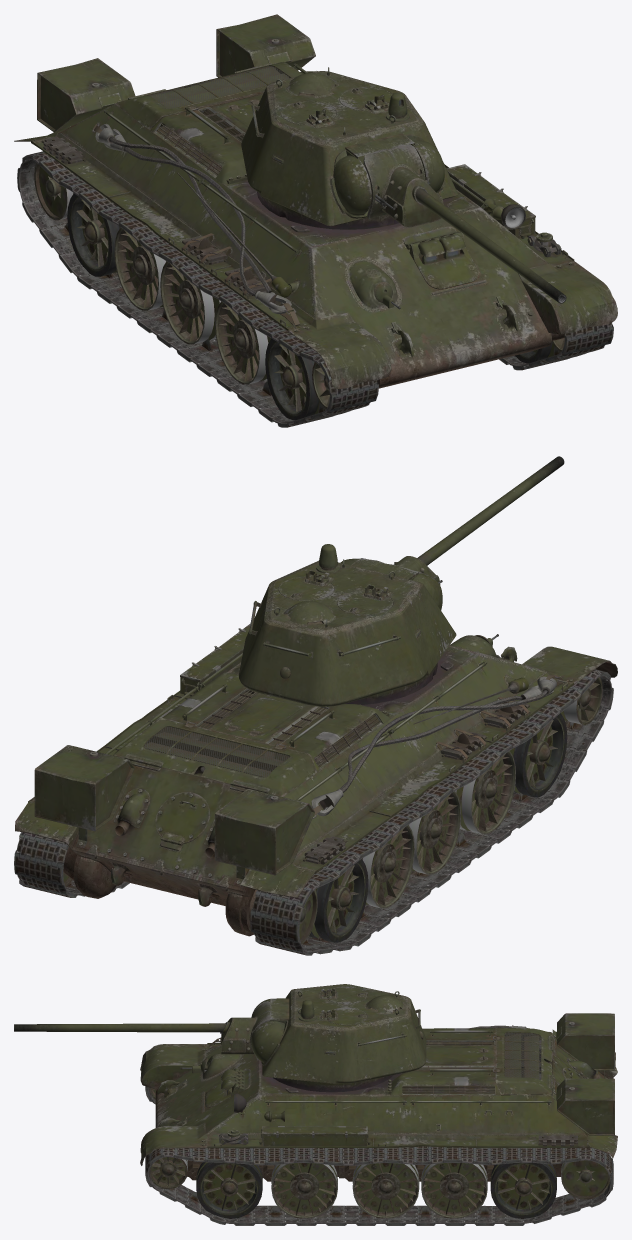
3 views of the same model, one above another, from view 1: azimuth 30°, elevation 25°; view 2: azimuth 150°, elevation 25°; view 3: azimuth 270°, elevation 25° (orthographic). The views are drawn at different scales.
Visible parts, largest first — view 1: Object_12, Object_13, Object_9, Object_6, Object_15, wheelL3, wheelL5, wheelL4, wheelL1, wheelL2, Object_4, Object_5 (+2 smaller); view 2: Object_12, Object_13, Object_9, Object_6, Object_4, wheelL1, wheelL4, wheelL5, Object_5, wheelL2, wheelL3, Object_15 (+1 smaller); view 3: Object_12, Object_13, Object_9, Object_5, Object_15, wheelR5, wheelR1, wheelR2, wheelR3, wheelR4, wheelRS, Object_4 (+2 smaller).
Part boxes in pixels (x1=…): Object_12: x1=41, y1=62, x2=574, y2=388; Object_13: x1=14, y1=14, x2=617, y2=334; Object_9: x1=241, y1=67, x2=457, y2=229; Object_6: x1=17, y1=151, x2=378, y2=427; Object_15: x1=363, y1=144, x2=566, y2=303; wheelL3: x1=160, y1=261, x2=220, y2=344; wheelL5: x1=265, y1=335, x2=326, y2=420; wheelL4: x1=215, y1=301, x2=271, y2=384; wheelL1: x1=67, y1=192, x2=120, y2=276; wheelL2: x1=114, y1=227, x2=166, y2=310; Object_4: x1=148, y1=66, x2=290, y2=108; Object_5: x1=499, y1=323, x2=613, y2=370; Object_12: x1=61, y1=635, x2=617, y2=936; Object_13: x1=15, y1=623, x2=573, y2=897; Object_9: x1=239, y1=544, x2=456, y2=706; Object_6: x1=250, y1=669, x2=613, y2=955; Object_4: x1=144, y1=726, x2=289, y2=777; wheelL1: x1=309, y1=859, x2=368, y2=942; wheelL4: x1=455, y1=749, x2=515, y2=834; wheelL5: x1=510, y1=710, x2=567, y2=797; Object_5: x1=14, y1=832, x2=129, y2=897; wheelL2: x1=362, y1=825, x2=414, y2=908; wheelL3: x1=409, y1=791, x2=461, y2=874; Object_15: x1=394, y1=456, x2=564, y2=585; Object_12: x1=140, y1=1027, x2=609, y2=1178; Object_13: x1=140, y1=1013, x2=617, y2=1181; Object_9: x1=251, y1=984, x2=426, y2=1092; Object_5: x1=145, y1=1146, x2=613, y2=1225; Object_15: x1=14, y1=1002, x2=270, y2=1060; wheelR5: x1=196, y1=1150, x2=262, y2=1218; wheelR1: x1=490, y1=1154, x2=556, y2=1218; wheelR2: x1=421, y1=1151, x2=487, y2=1218; wheelR3: x1=352, y1=1154, x2=419, y2=1218; wheelR4: x1=271, y1=1156, x2=337, y2=1218; wheelRS: x1=561, y1=1149, x2=609, y2=1199; Object_4: x1=504, y1=1032, x2=541, y2=1079.
Size of the model in its own units: 3.14 by 2.58 by 7.57.
Materials: 10 (10 with a texture image).
